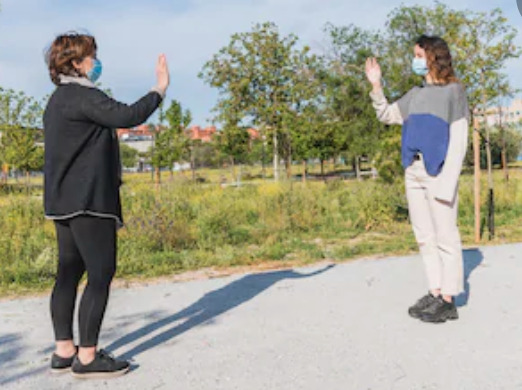Caution: (43, 30, 468, 373)
